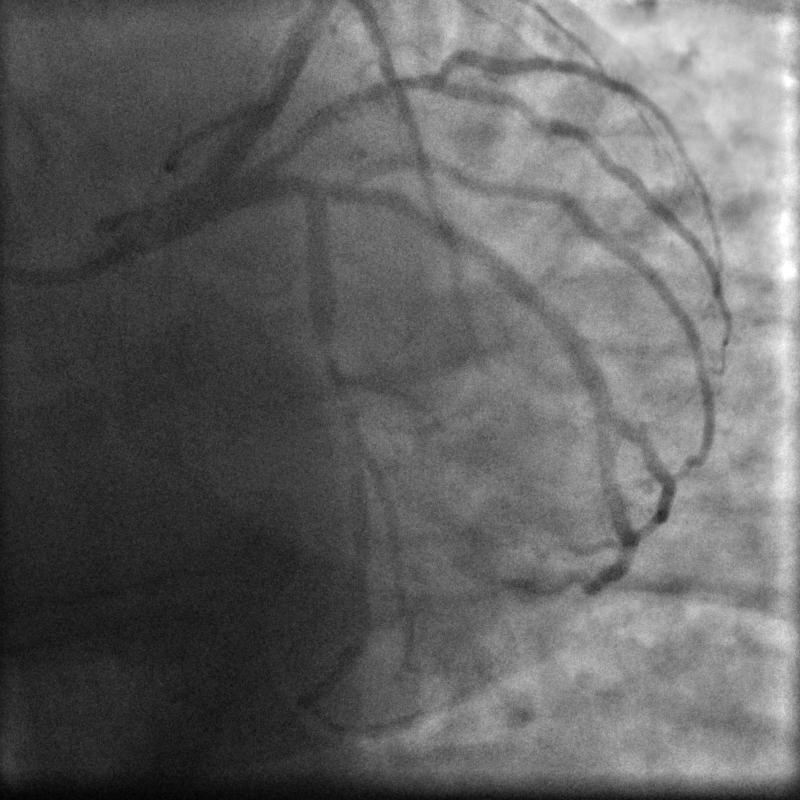Stenosis: (312, 335, 361, 454)
